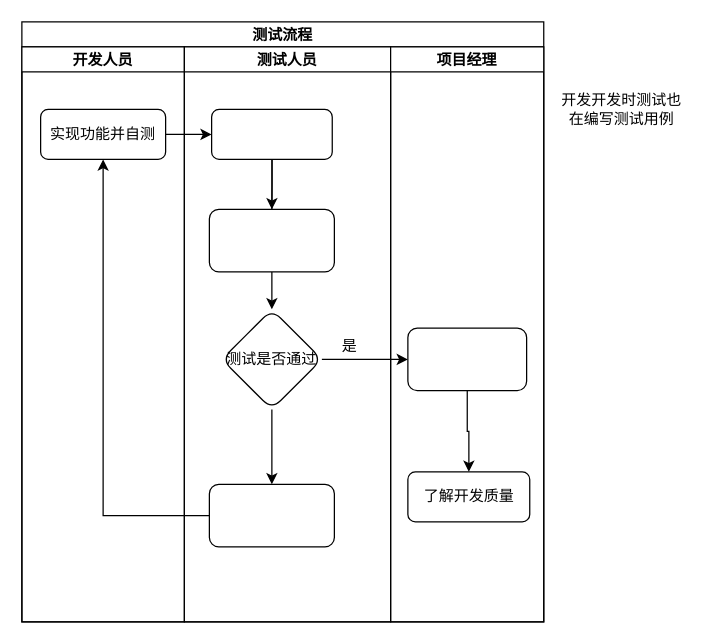
Image size: 706x644. Some labels were removed from this diagram. Here are the shapes that lost their labels. From the top down, the centre of each, then its label:
(271,133): 给测试人员展示功能
(271,240): 测试人员进行测试
(467,359): 根据缺陷产生报表并查看
(271,515): 提交问题反馈，转给开发
